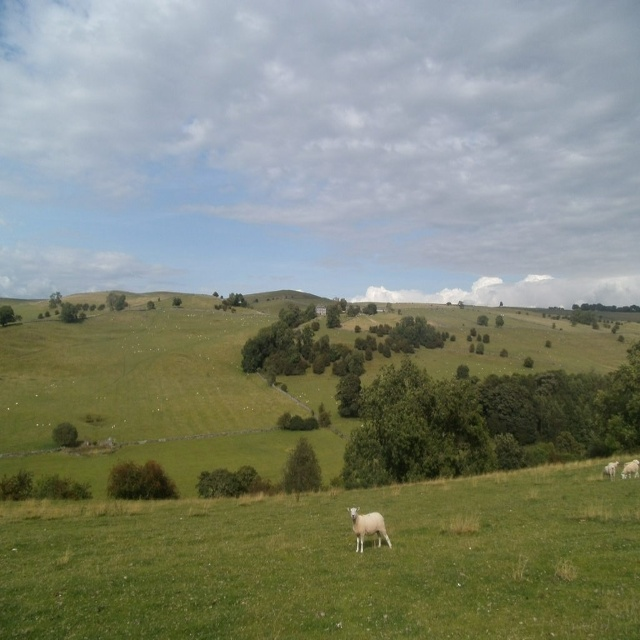Sheep: (346, 506, 391, 559)
